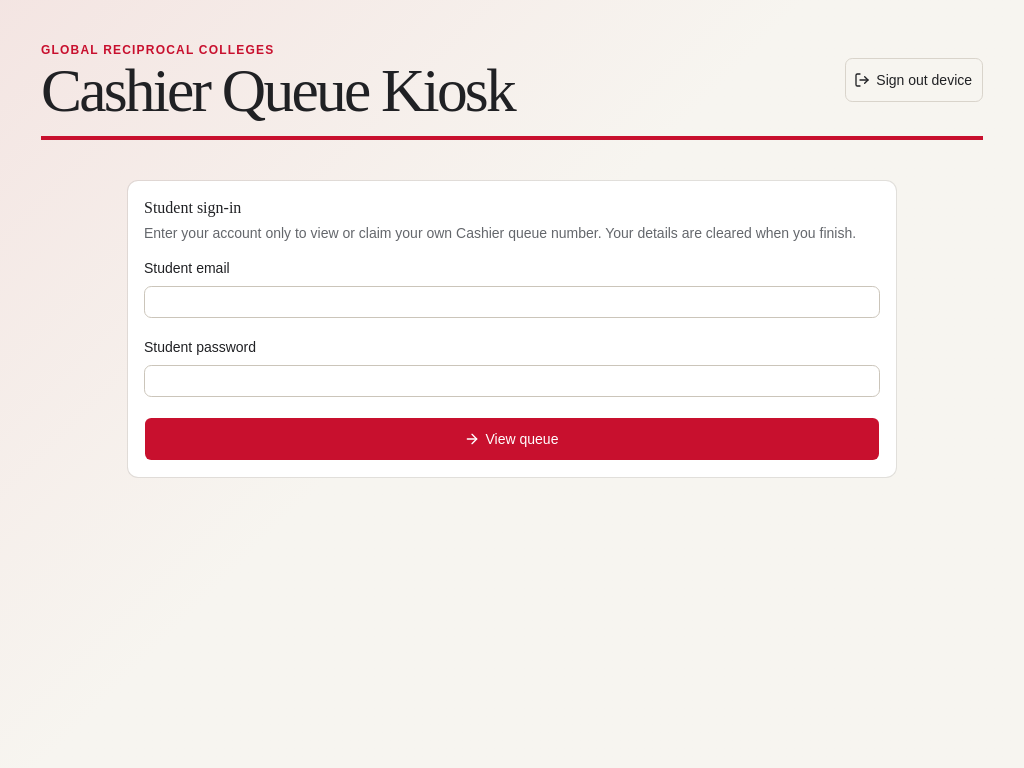
Test: QueueKioskPage › clears persistent device storage on explicit device sign-out
Expected: the heading "Student sign-in" is shown, left=144, top=199, right=241, bottom=216
Click the button "Sign out device" at (914, 80), box left=845, top=58, right=983, bottom=102
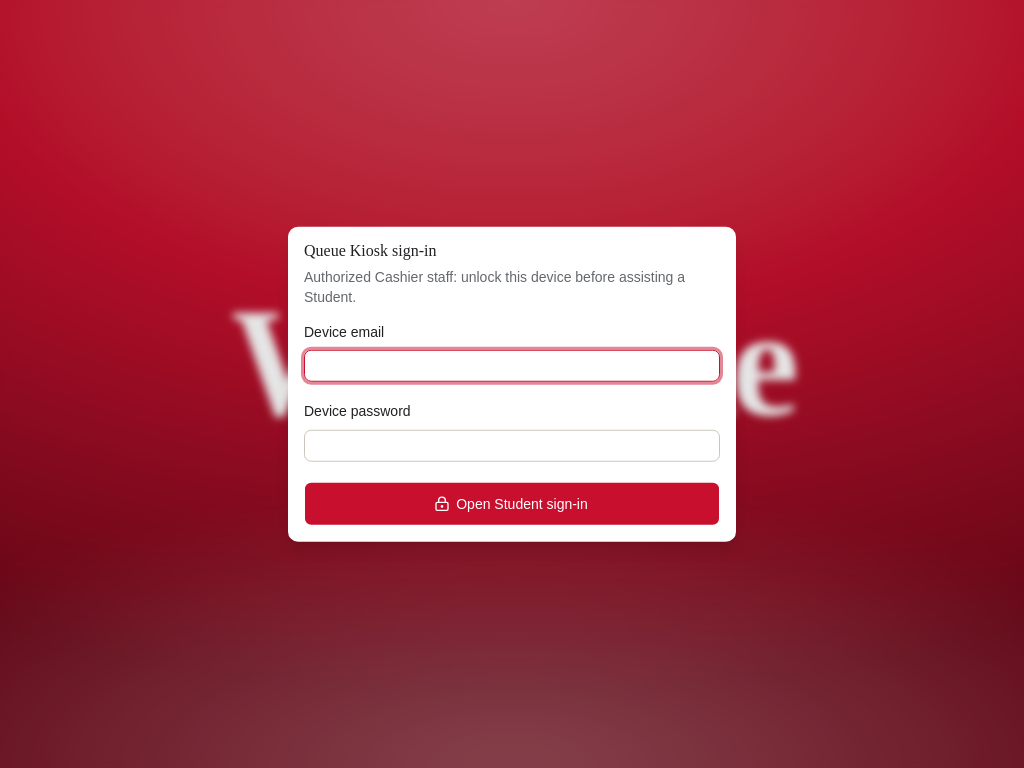
Now the heading "Queue Kiosk sign-in" is shown, box left=304, top=242, right=436, bottom=259
